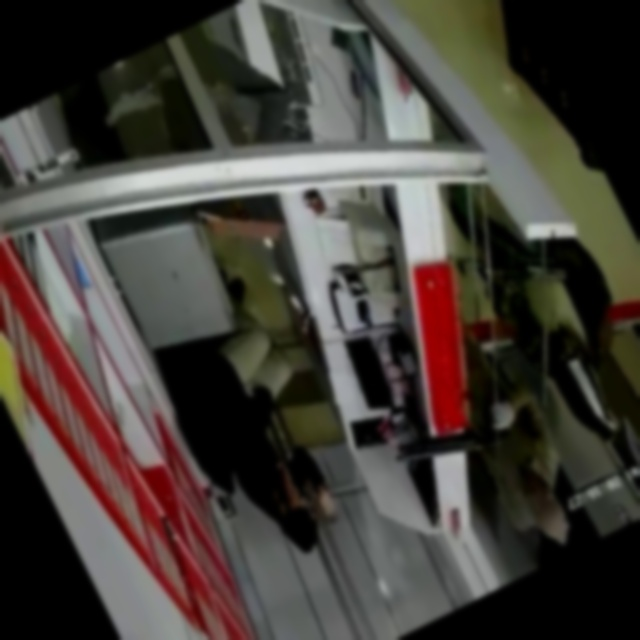gun: (448, 216, 575, 328), (387, 395, 514, 497)
